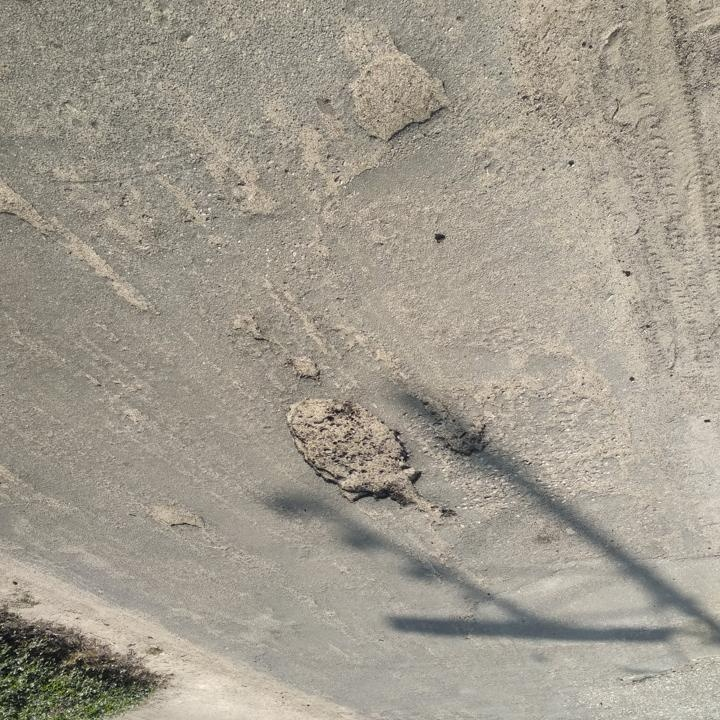pothole: (277, 393, 450, 522), (335, 24, 454, 147), (415, 392, 489, 460), (0, 176, 48, 239), (148, 500, 208, 533)
